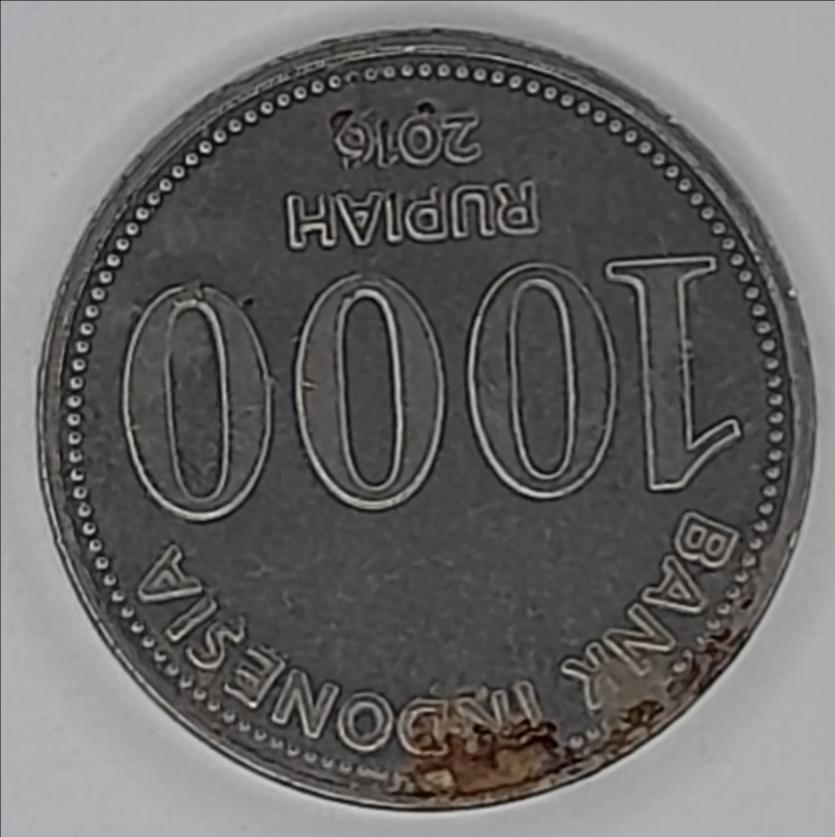coin_1000_e2016: (14, 17, 824, 837)
